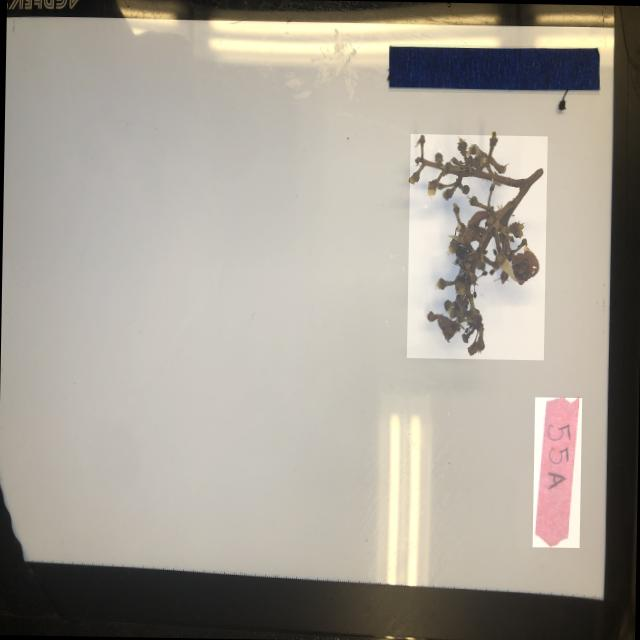index: (531, 397, 581, 548)
measure_label: (387, 43, 599, 95)
rachis_cluster: (406, 133, 546, 360)
